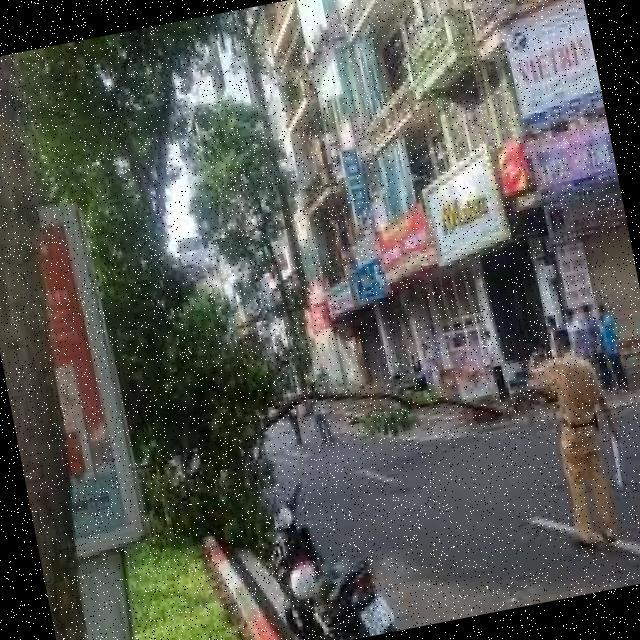fallen_object: (172, 277, 572, 515)
